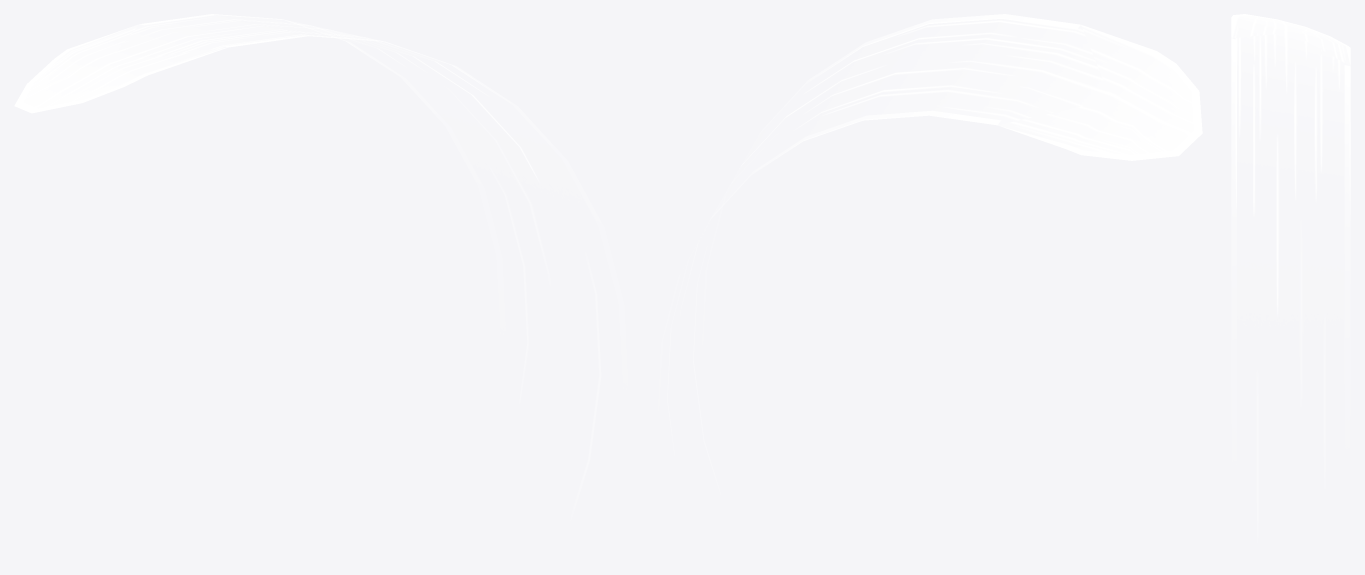
Rendered from spinner_big.glb.
3 views of the same model, side by side, from view 1: azimuth 30°, elevation 25°; view 2: azimuth 150°, elevation 25°; view 3: azimuth 270°, elevation 25° (orthographic). The views are drawn at different scales.
Visible parts, largest first — view 1: spinner_small.001; view 2: spinner_small.001; view 3: spinner_small.001.
Boxes of the visible parts, bbox=[...] form: spinner_small.001: bbox=[14, 14, 600, 508]; spinner_small.001: bbox=[667, 14, 1202, 480]; spinner_small.001: bbox=[1231, 14, 1350, 536].
Bounding box in the file's own units: 77.21 × 78.83 × 21.1.
1 material, 1 textured.
